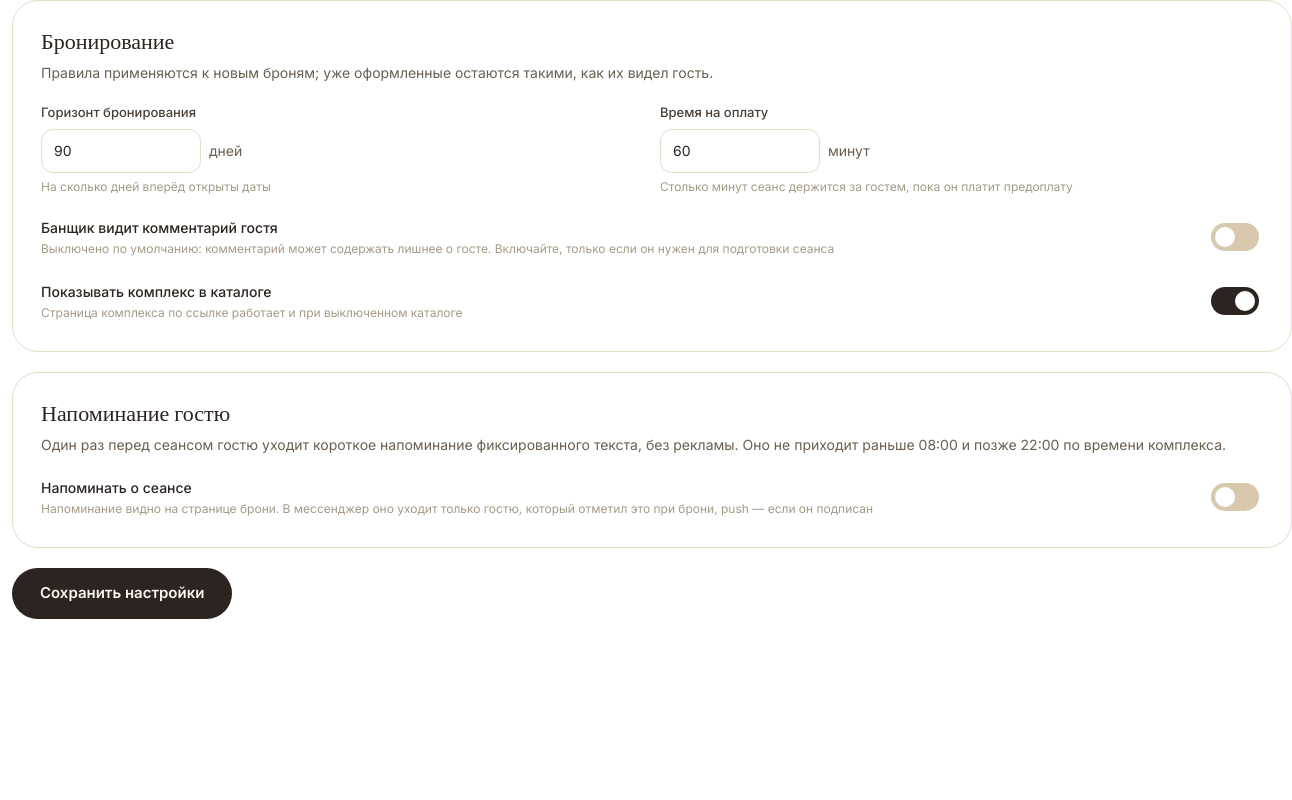
Test: BookingRulesCard reminder › shows the hours, starting from 3, once the reminder is switched on
Click the switch named "Напоминать о сеансе" in the row of "Напоминать о сеансе" at (1235, 497), box 1207,475 -> 1263,519
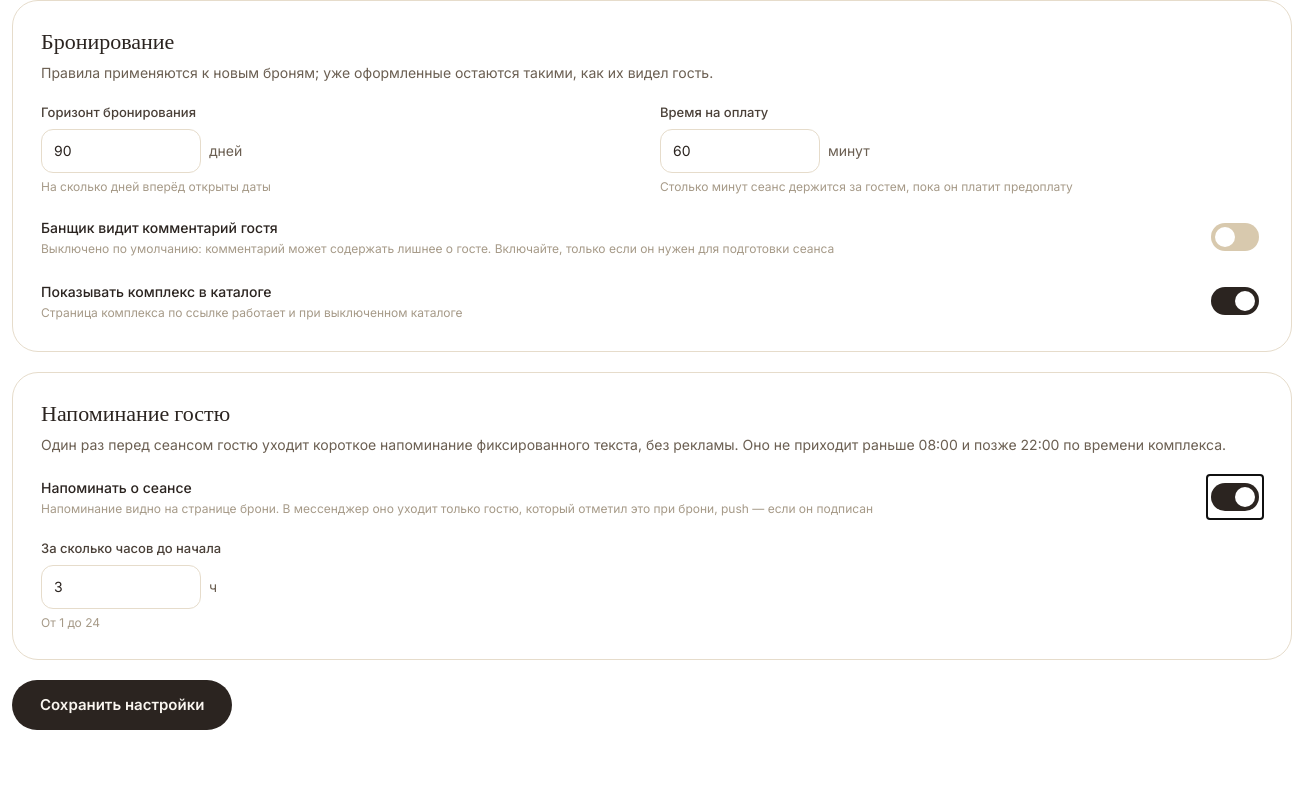
Expected: the number field labelled "За сколько часов до начала" holds "3", 41,564 -> 201,608
